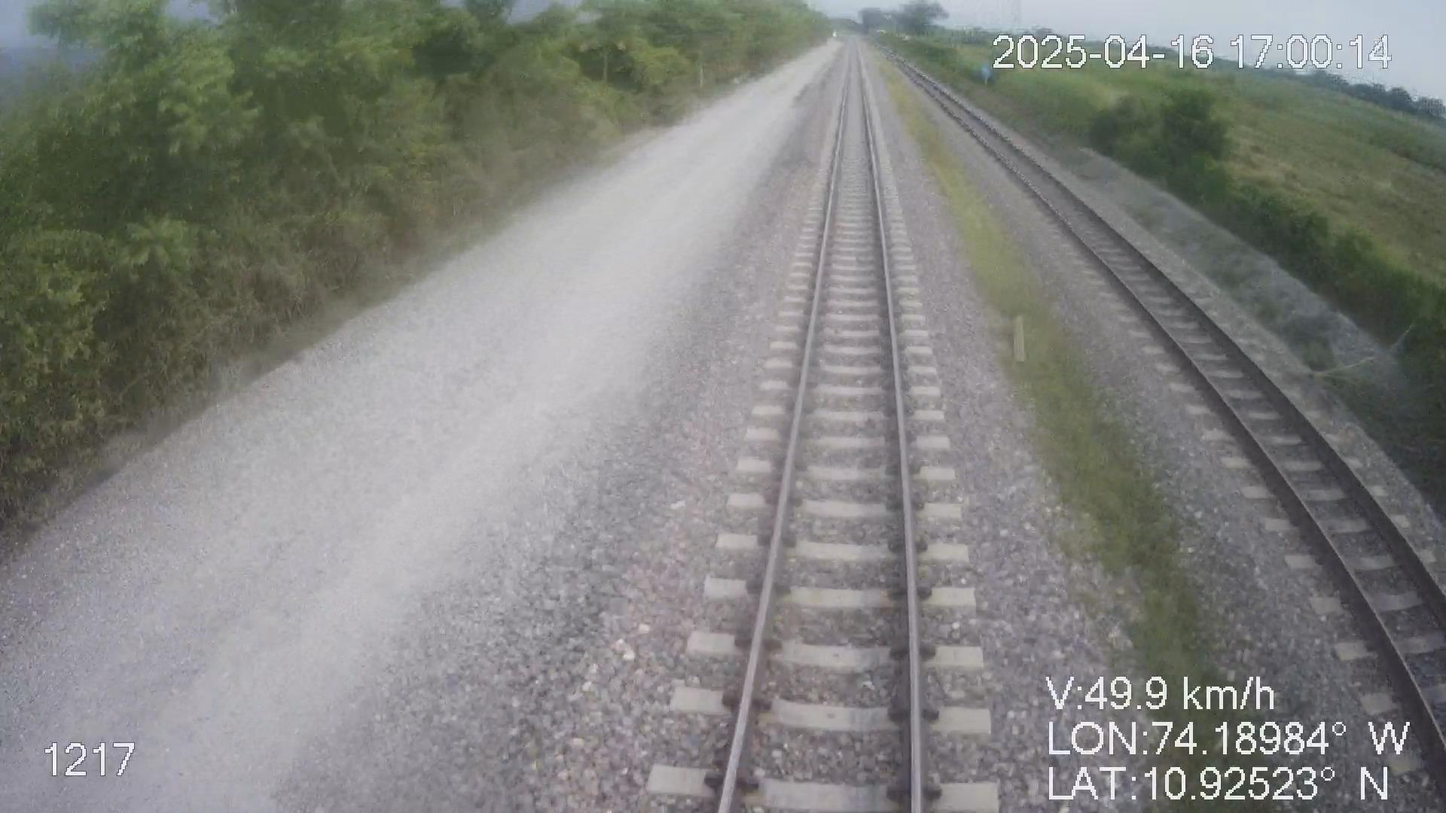Pasto: (0, 0, 827, 553), (889, 25, 1445, 493)
